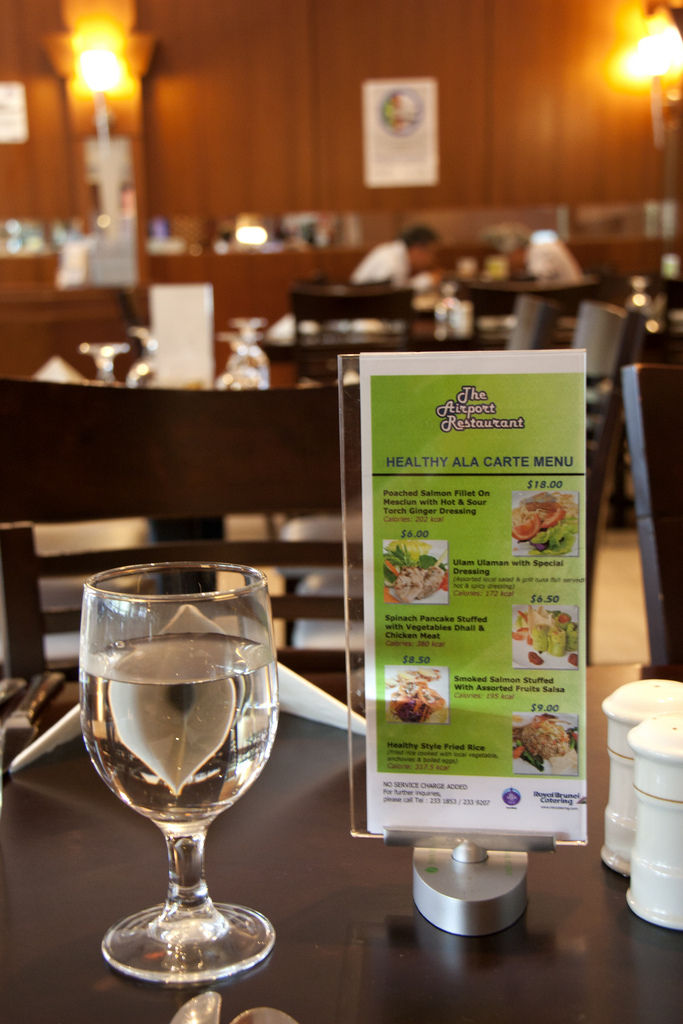glass of water: (84, 568, 279, 970)
